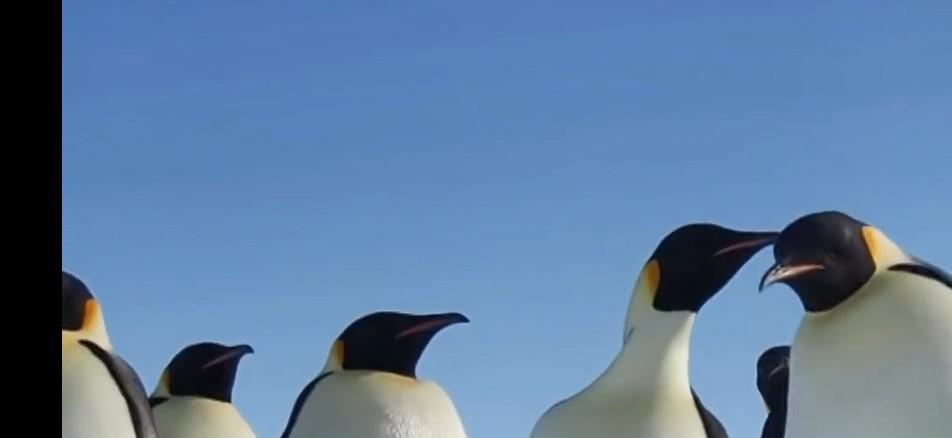Emperor Penguin: (518, 207, 774, 438), (743, 198, 952, 438), (232, 287, 505, 438), (58, 260, 212, 438), (148, 328, 272, 438)
